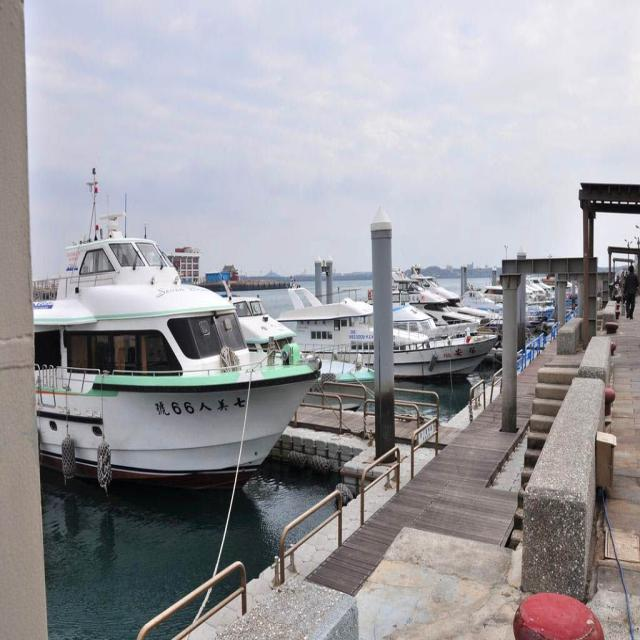houseboat: (38, 218, 323, 491), (377, 324, 493, 390)
